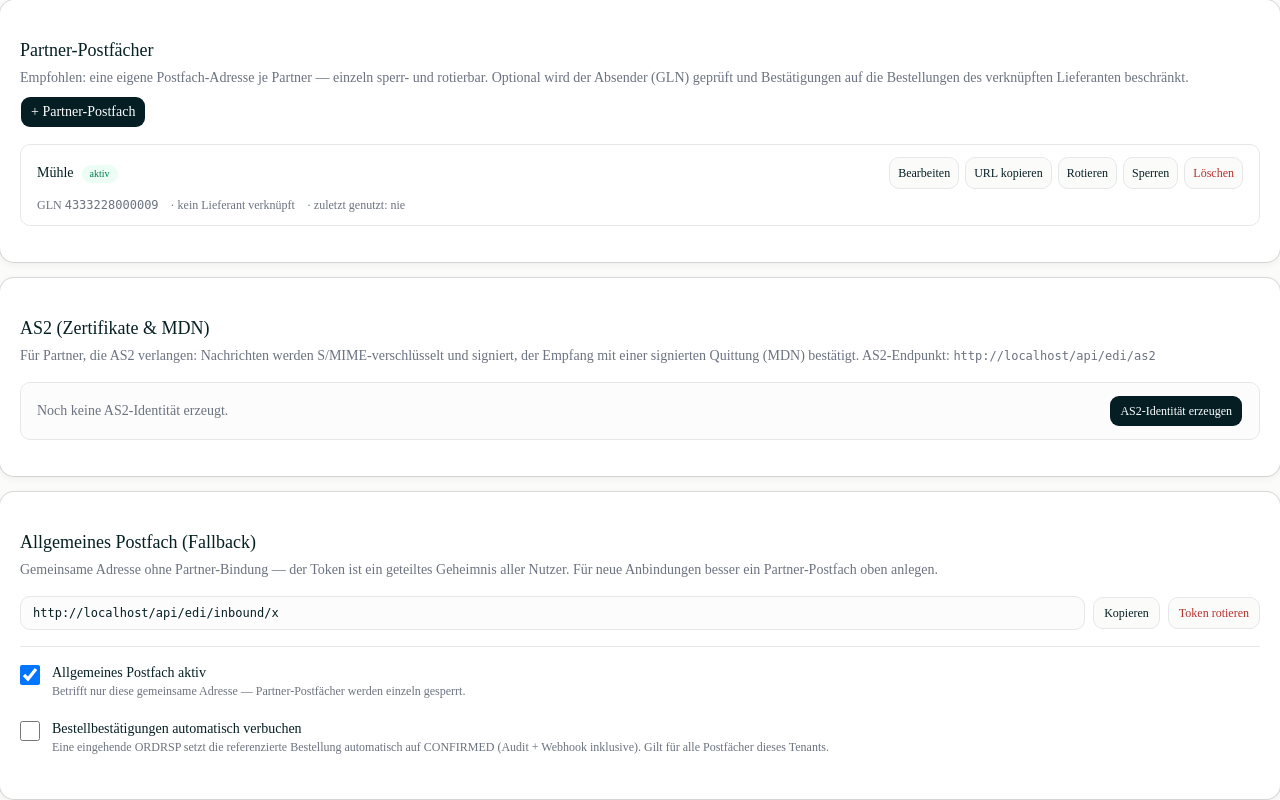
Scenario: EDI-Tab mobil › Partner-Dialog: Bottom-Sheet mit Fußzeile und mobilen Feldern (F-M64/65/66/67)
This screenshot has width=1280, height=800.
Expected: the text "Mühle" is shown, [37,165,74,180]
Click the button "+ Partner-Postfach" at point(83, 112), box [20,96,146,128]
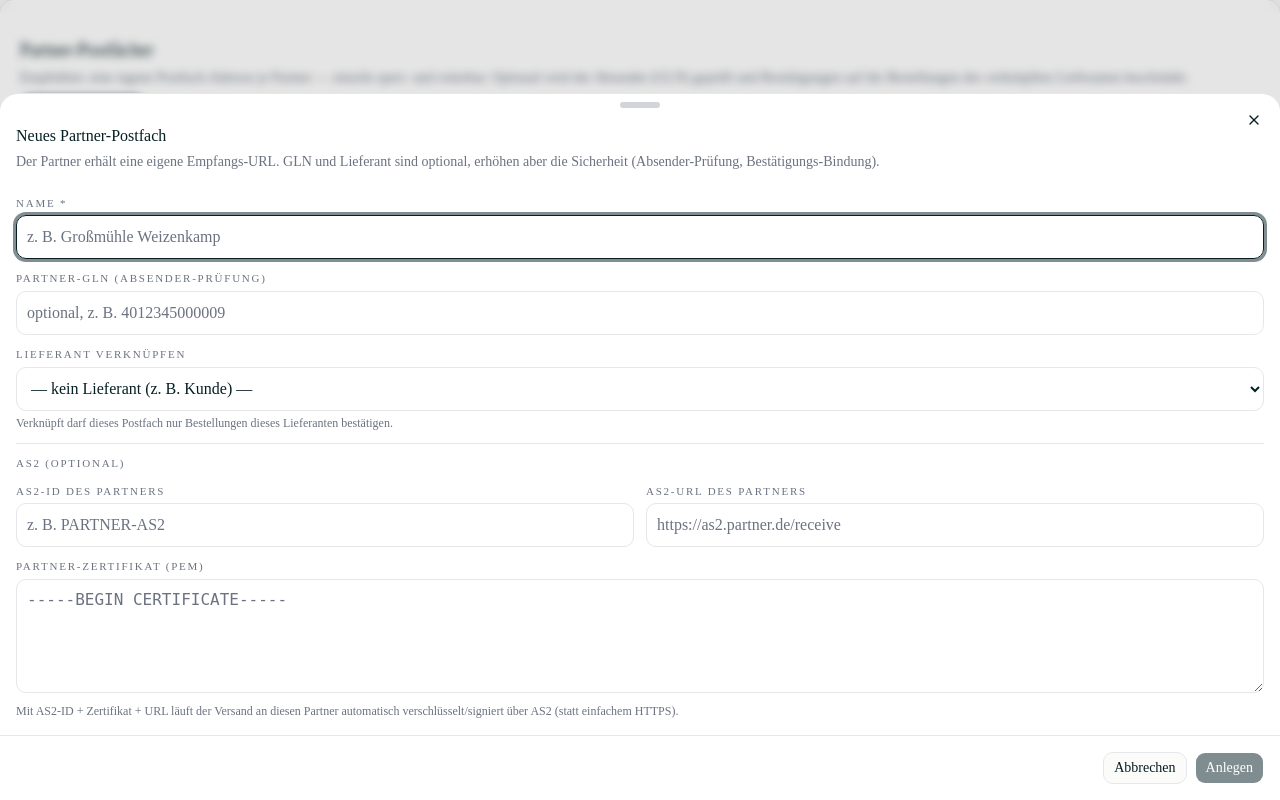
Now the button "Anlegen" is shown, box [1195,752,1264,784]
Now the button "Abbrechen" is shown, box [1103,752,1186,784]
